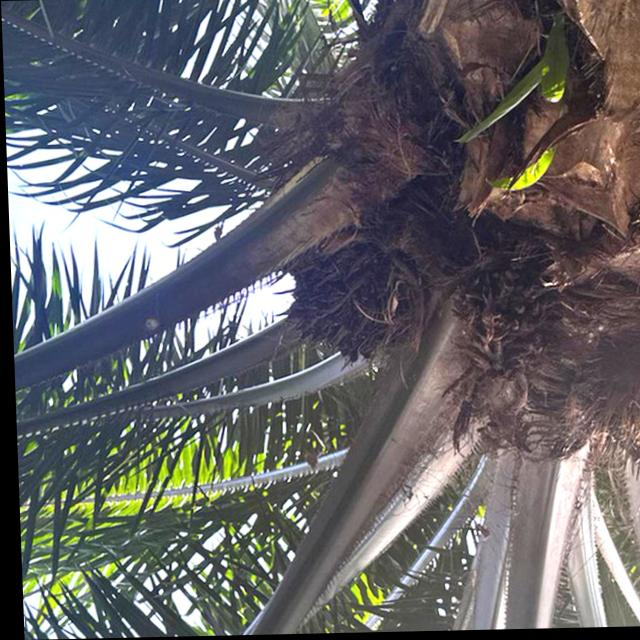ripe: (261, 232, 420, 383)
